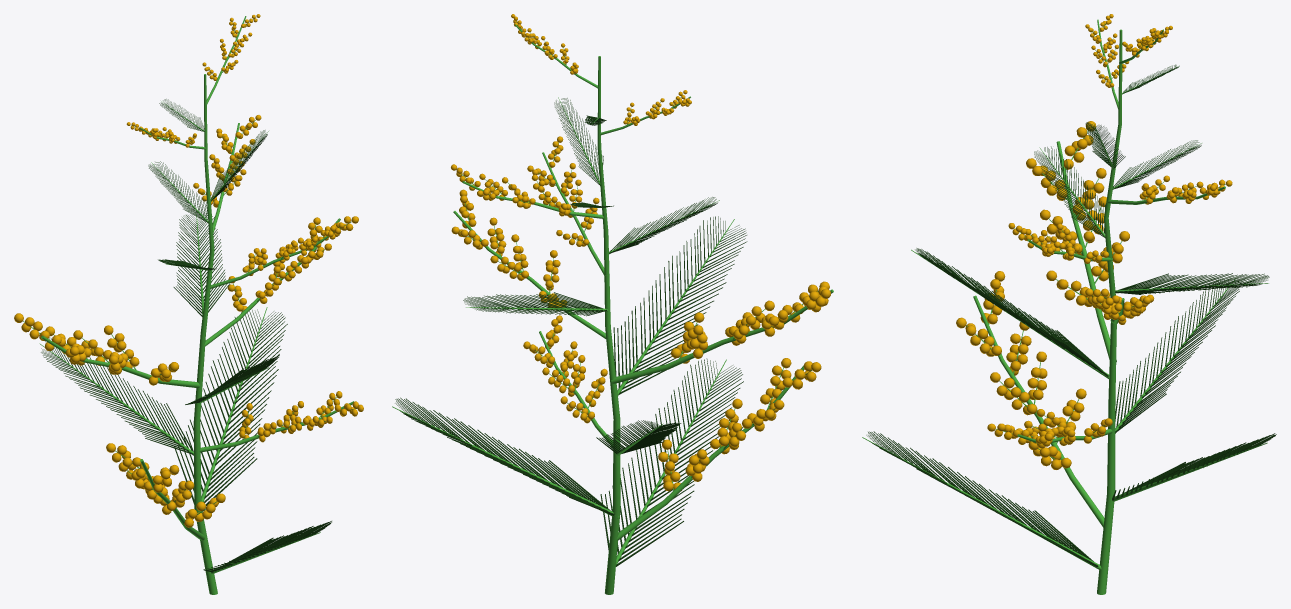
File: yellowacacia.fbx
3 views of the same model, side by side, from view 1: azimuth 30°, elevation 25°; view 2: azimuth 150°, elevation 25°; view 3: azimuth 270°, elevation 25° (orthographic). The views are drawn at different scales.
Parts seen in each view (by area): view 1: uellow acacia; view 2: uellow acacia; view 3: uellow acacia.
Boxes of the visible parts, x1,y1,x2,y2 form: uellow acacia: (14,14,363,594); uellow acacia: (392,14,833,594); uellow acacia: (862,14,1276,594).
Size of the model in its own units: 0.7724 by 1.16 by 0.7285.
